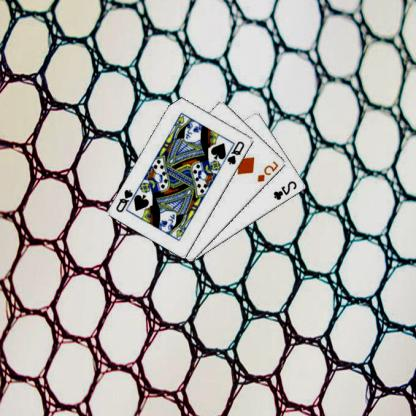2C: (273, 178, 300, 201)
5D: (257, 158, 282, 184)
QS: (226, 138, 248, 166), (115, 186, 136, 214)
